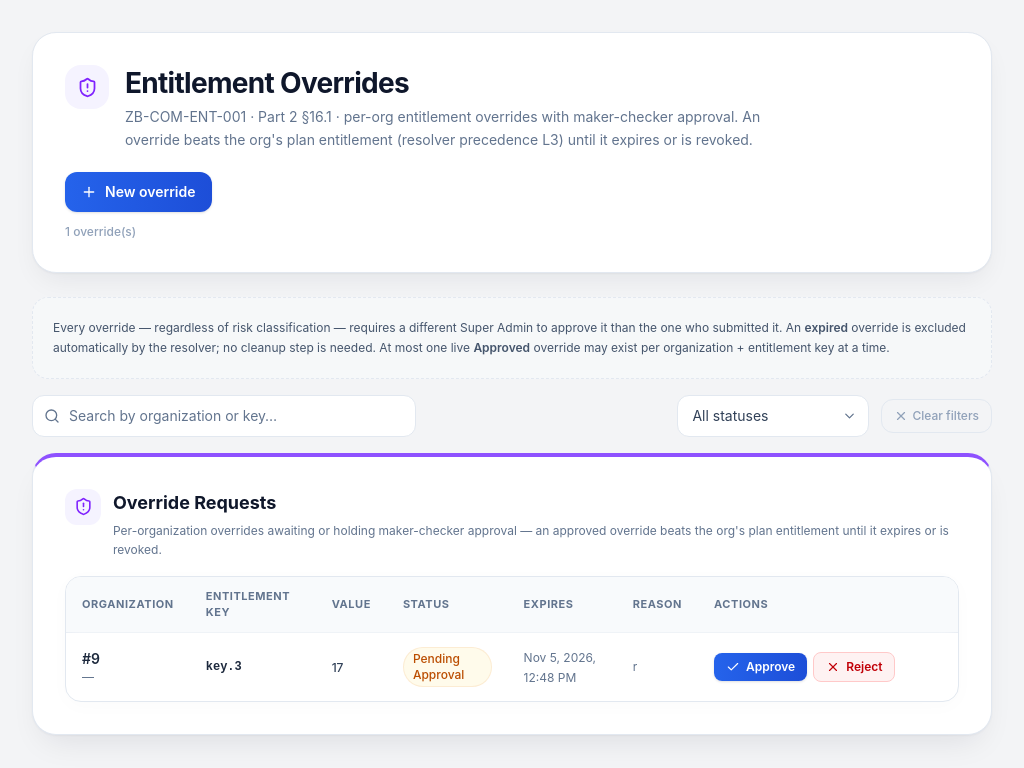
Scenario: OverridesPage pending requests › shows a failed approval without hiding the table
Click the button "Approve" at [761, 667], box [714, 653, 807, 681]
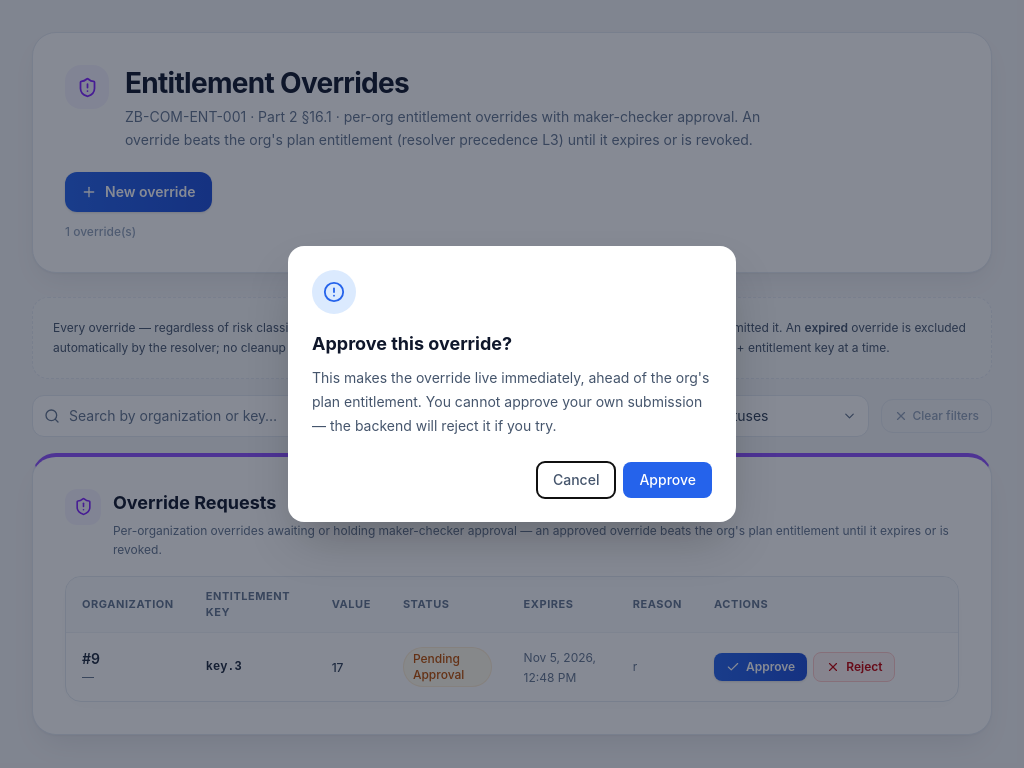
Click the button "Approve" at [668, 480], box [623, 462, 712, 498]
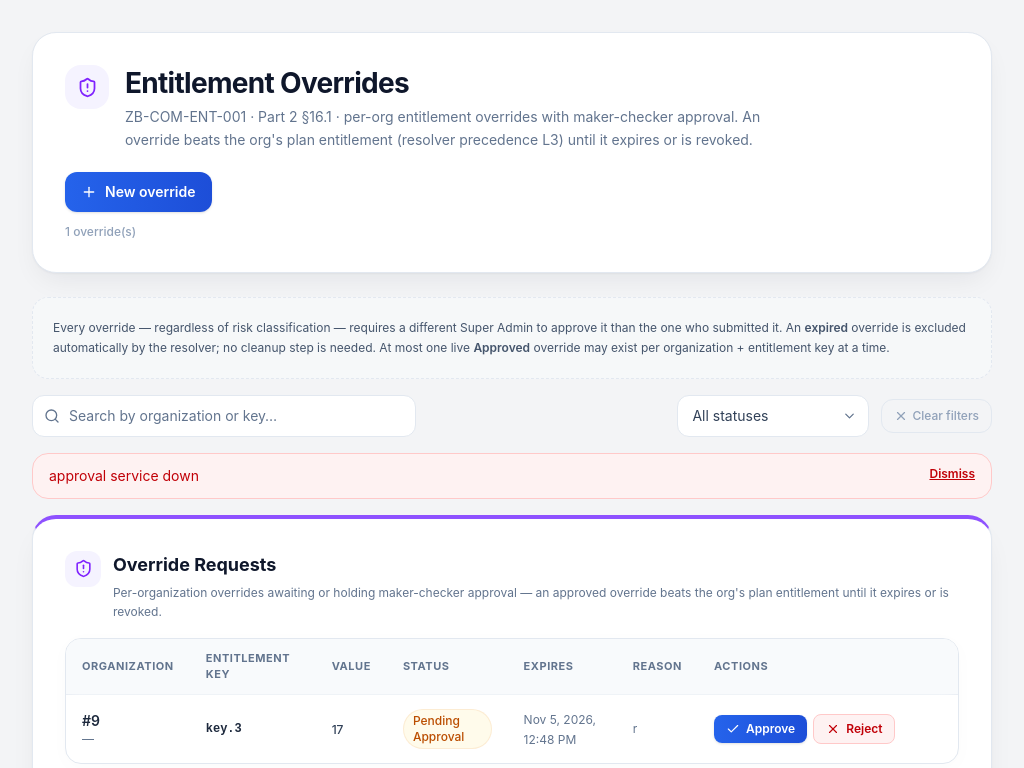
Expected: the text "key.3" is shown, [206, 722, 242, 736]
Now the text "approval service down" is shown, box [49, 466, 199, 486]
